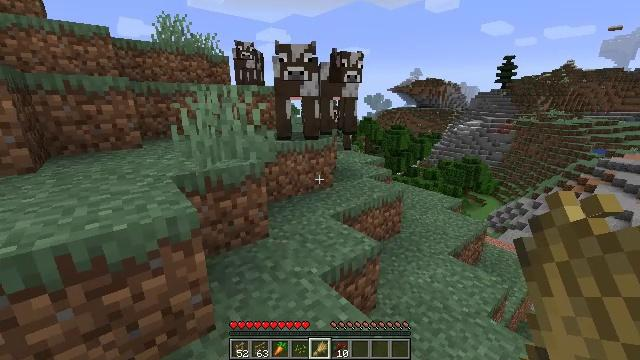cow: (273, 40, 320, 140), (321, 49, 364, 134), (234, 40, 265, 84)
